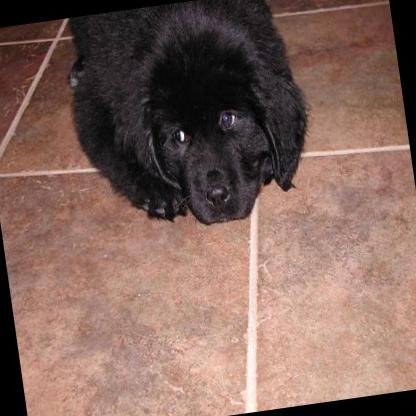Newfoundland: (57, 0, 324, 241)
